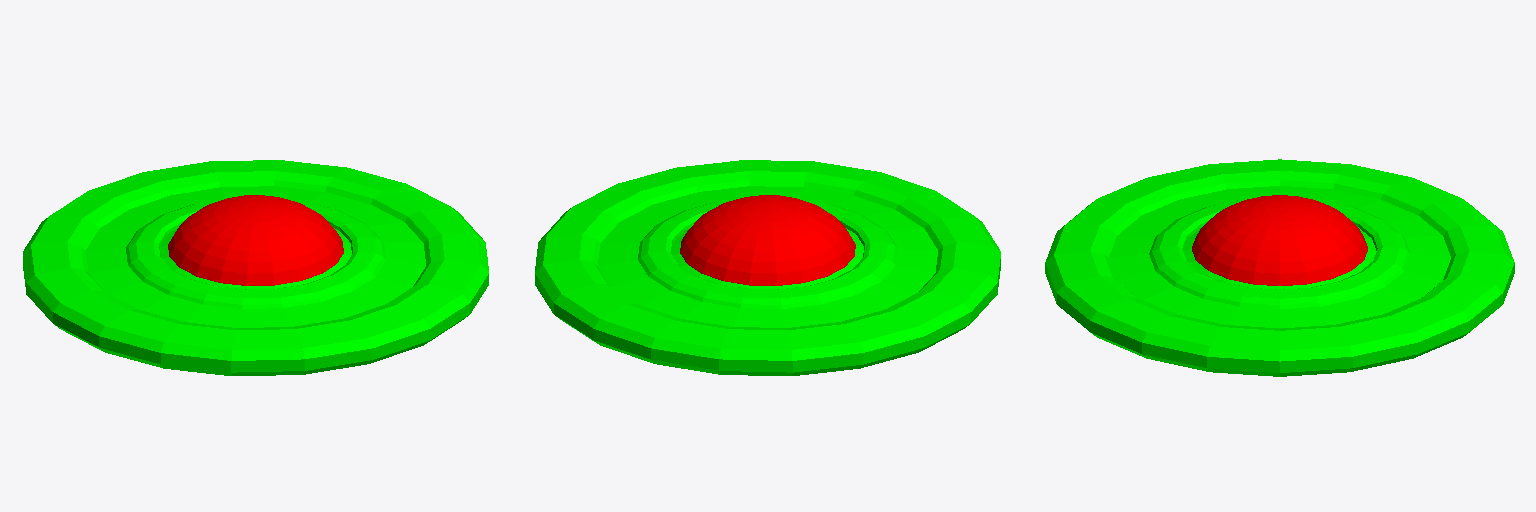
Rendered from spaceRand_04.obj.
3 views of the same model, side by side, from view 1: azimuth 30°, elevation 25°; view 2: azimuth 150°, elevation 25°; view 3: azimuth 270°, elevation 25° (orthographic).
Visible parts, largest first — view 1: spaceRand_04 randSpace_grp; view 2: spaceRand_04 randSpace_grp; view 3: spaceRand_04 randSpace_grp.
Part boxes in pixels (x1,y1,x2,y2): spaceRand_04 randSpace_grp: (23,160,488,375); spaceRand_04 randSpace_grp: (535,160,1000,375); spaceRand_04 randSpace_grp: (1045,159,1514,376).
Size of the model in its own units: 1440 by 326 by 1440.